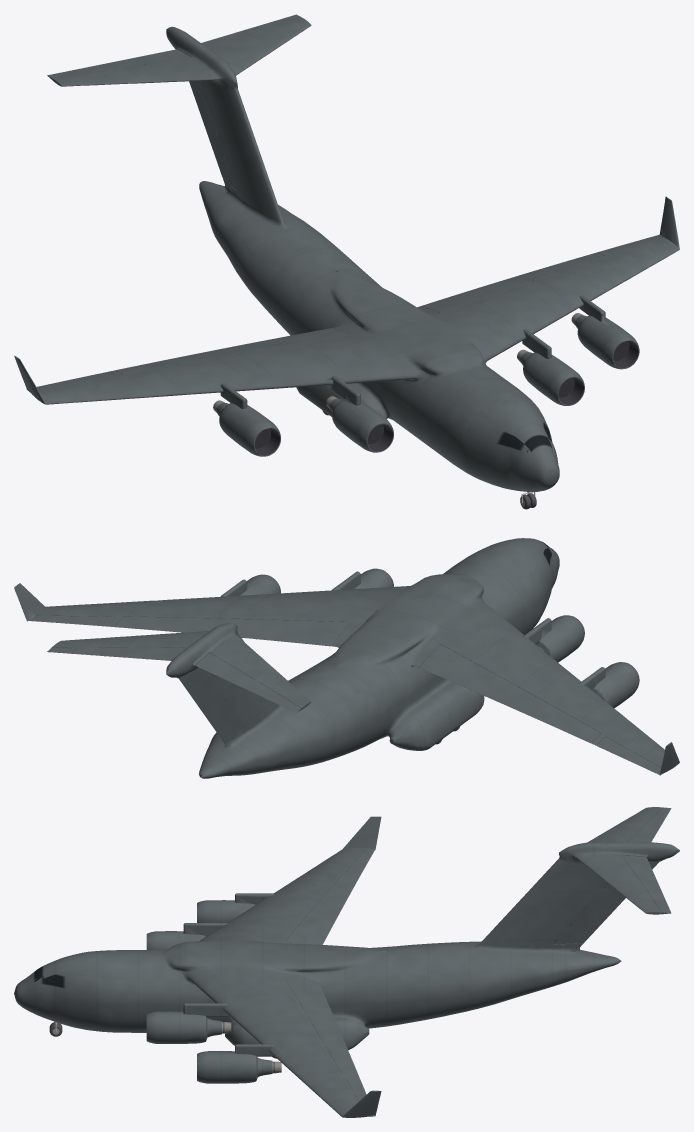
3 renders of one model, top to bottom at view 1: azimuth 30°, elevation 25°; view 2: azimuth 150°, elevation 25°; view 3: azimuth 270°, elevation 25°, orthographic. The views are drawn at different scales.
Visible parts, largest first — view 1: airframe, fsim:flaps (×2), fsim:elevator (×2), fsim:rudder; view 2: airframe, fsim:flaps (×2), fsim:elevator (×2), fsim:rudder, fsim:aileron (×2); view 3: airframe, fsim:flaps (×2), fsim:rudder, fsim:elevator (×2).
Part boxes in pixels (x1,y1,x2,y2): airframe: [14, 17, 679, 491]; fsim:flaps (×2): [114, 254, 599, 374]; fsim:elevator (×2): [47, 14, 301, 79]; fsim:rudder: [189, 81, 236, 190]; airframe: [14, 538, 679, 778]; fsim:flaps (×2): [114, 616, 600, 743]; fsim:elevator (×2): [47, 647, 301, 712]; fsim:rudder: [178, 667, 243, 740]; fsim:aileron (×2): [31, 615, 660, 773]; airframe: [14, 807, 679, 1117]; fsim:flaps (×2): [285, 874, 359, 1077]; fsim:rudder: [553, 861, 659, 944]; fsim:elevator (×2): [622, 807, 671, 914].
Bounding box in the file's own units: 51.8 × 16.87 × 53.04.
6 materials, 1 textured.
